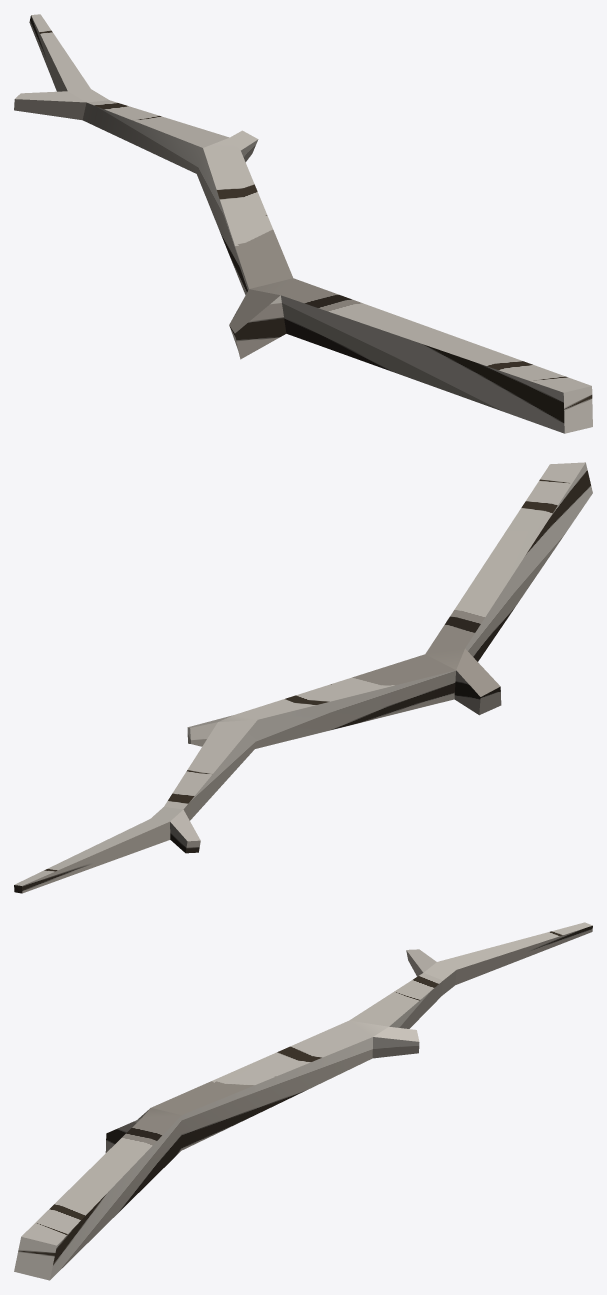
File: synty-tree-twig-05.gltf
3 views of the same model, one above another, from view 1: azimuth 30°, elevation 25°; view 2: azimuth 150°, elevation 25°; view 3: azimuth 330°, elevation 25° (orthographic). The views are drawn at different scales.
Parts seen in each view (by area): view 1: SM_Tree_Twig_05; view 2: SM_Tree_Twig_05; view 3: SM_Tree_Twig_05.
Boxes of the visible parts, bbox=[...] form: SM_Tree_Twig_05: bbox=[14, 14, 592, 433]; SM_Tree_Twig_05: bbox=[14, 462, 592, 893]; SM_Tree_Twig_05: bbox=[14, 922, 592, 1280].
Size of the model in its own units: 0.1627 by 0.0795 by 0.8836.
Materials: 1 (1 with a texture image).
